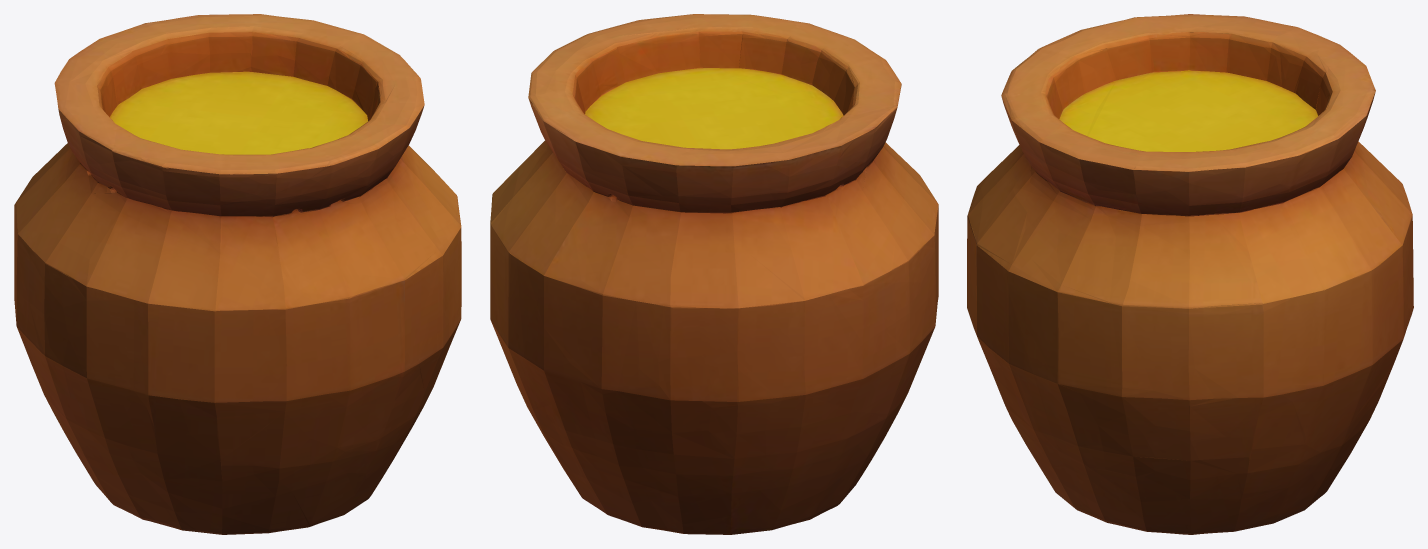
Rendered from d_ruche_pot.glb.
3 renders of one model, left to right at view 1: azimuth 30°, elevation 25°; view 2: azimuth 150°, elevation 25°; view 3: azimuth 270°, elevation 25°, orthographic.
Parts seen in each view (by area): view 1: geometry_0; view 2: geometry_0; view 3: geometry_0.
Part boxes in pixels (bbox=[...]): geometry_0: bbox=[14, 14, 461, 534]; geometry_0: bbox=[490, 14, 938, 534]; geometry_0: bbox=[967, 14, 1413, 534].
Size of the model in its own units: 0.9998 by 0.9542 by 1.
1 material, 1 textured.
